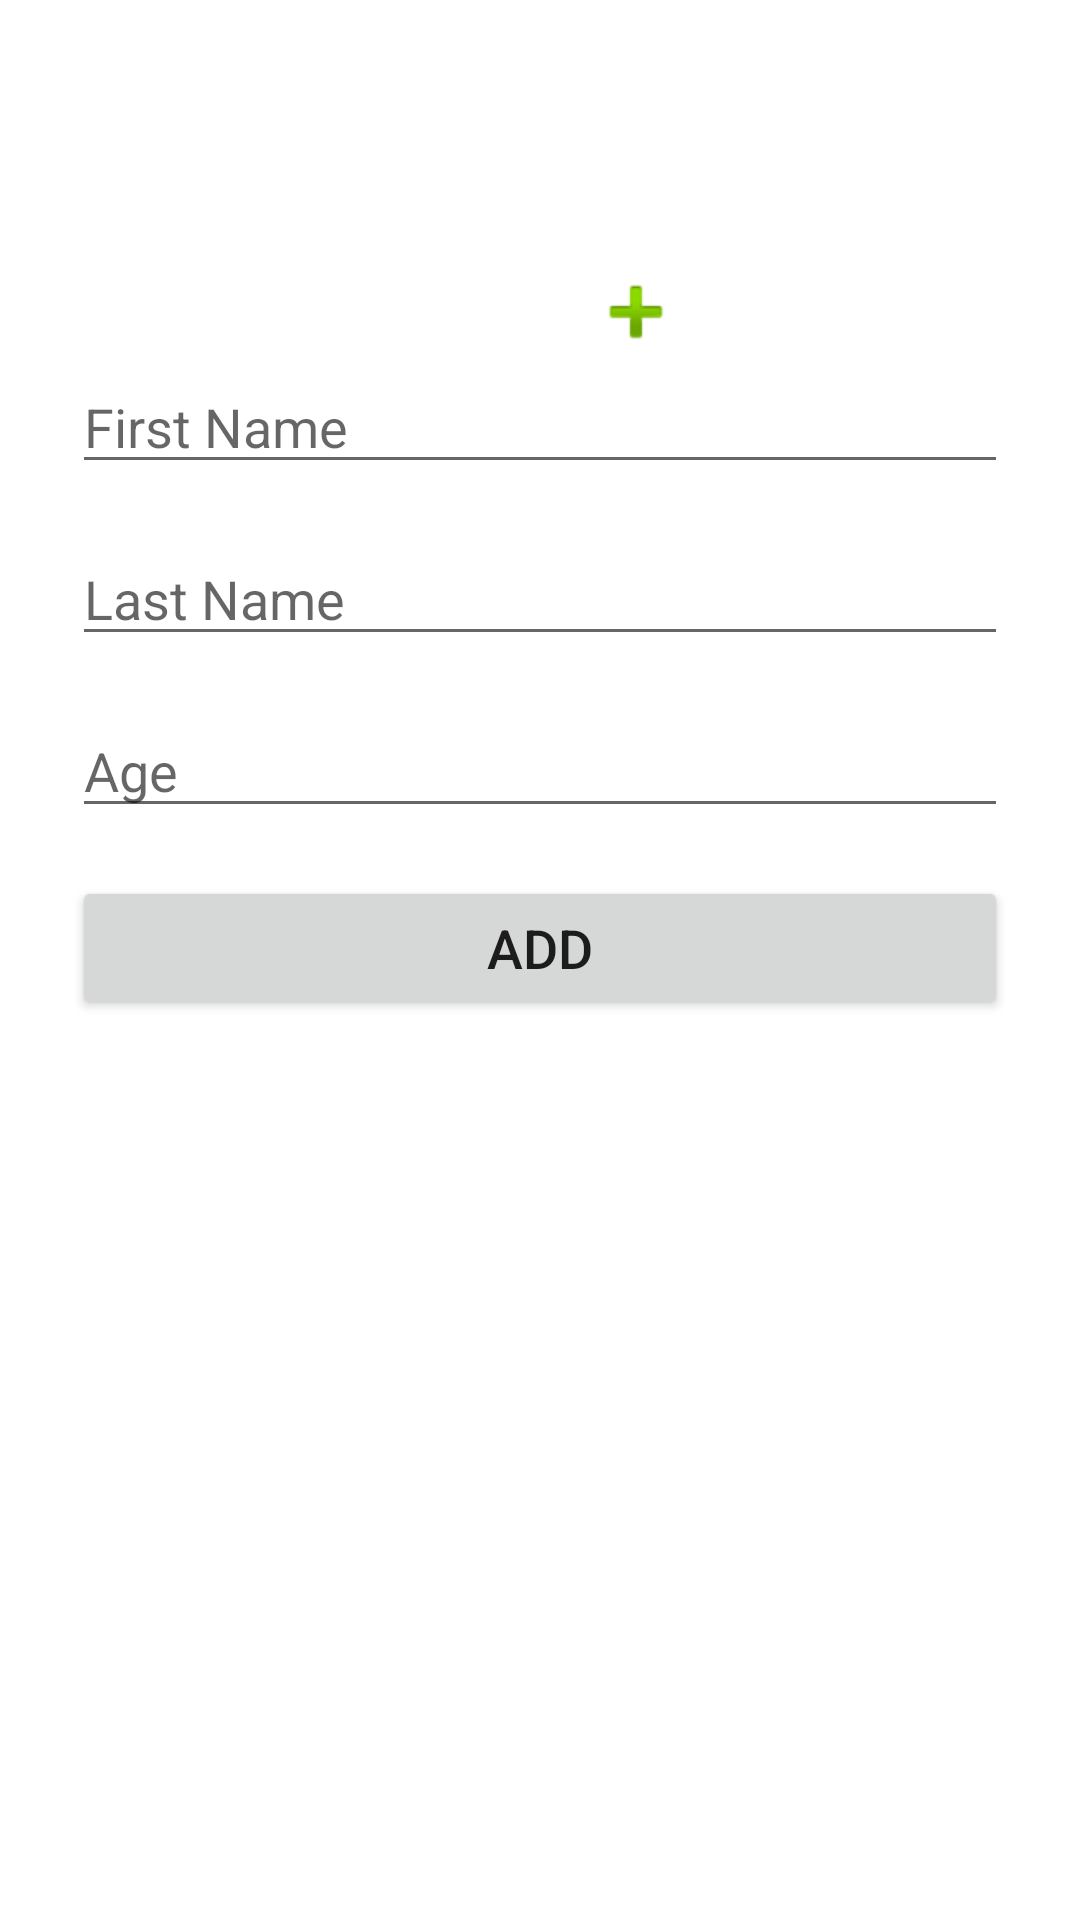

Screen size 1080*1920. Icon name, then its box in pixels as {"x1": x1, "y1": y1, "x2": x2, "y2": y2}:
add: {"x1": 609, "y1": 285, "x2": 663, "y2": 339}
